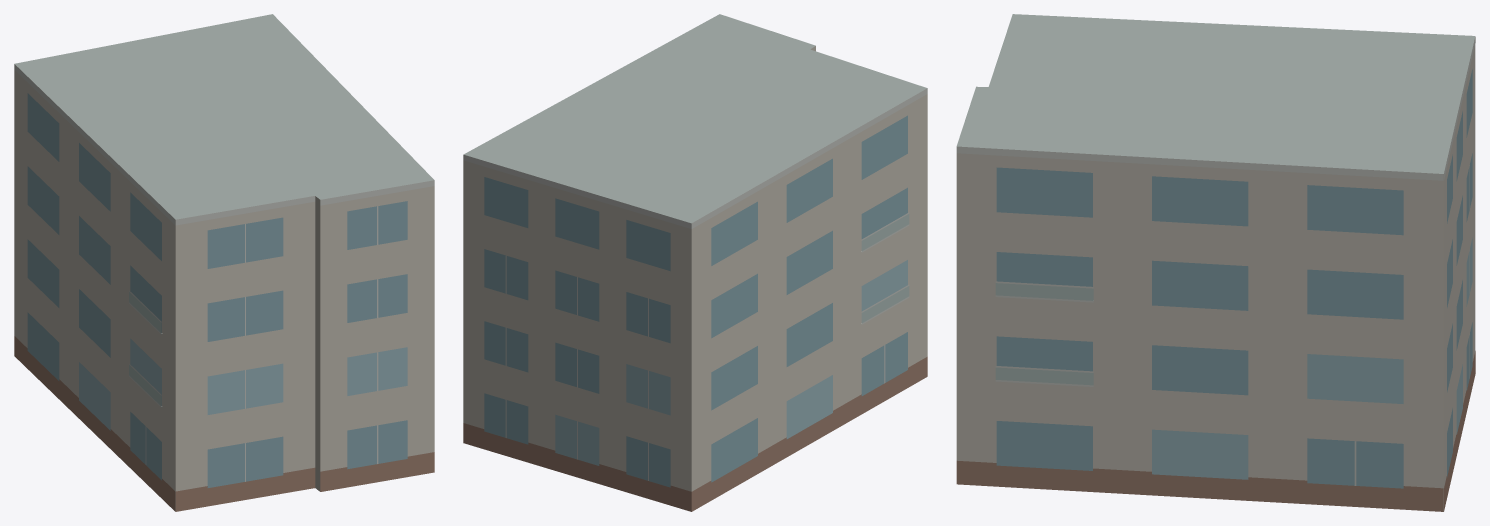
Rendered from survey-upis-32669941.glb.
3 renders of one model, left to right at view 1: azimuth 30°, elevation 25°; view 2: azimuth 150°, elevation 25°; view 3: azimuth 270°, elevation 25°, orthographic. The views are drawn at different scales.
Visible parts, largest first — view 1: survey-upis-32669941.tmp; view 2: survey-upis-32669941.tmp; view 3: survey-upis-32669941.tmp.
Part boxes in pixels (x1,y1,x2,y2): survey-upis-32669941.tmp: [14, 14, 434, 511]; survey-upis-32669941.tmp: [463, 14, 927, 511]; survey-upis-32669941.tmp: [956, 14, 1475, 511].
Bounding box in the file's own units: 12.41 × 12.2 × 17.
